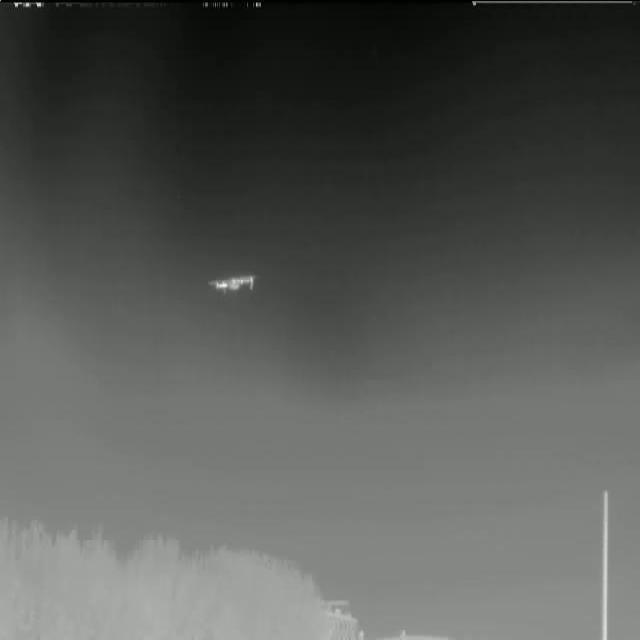DRONE: (204, 263, 264, 302)
